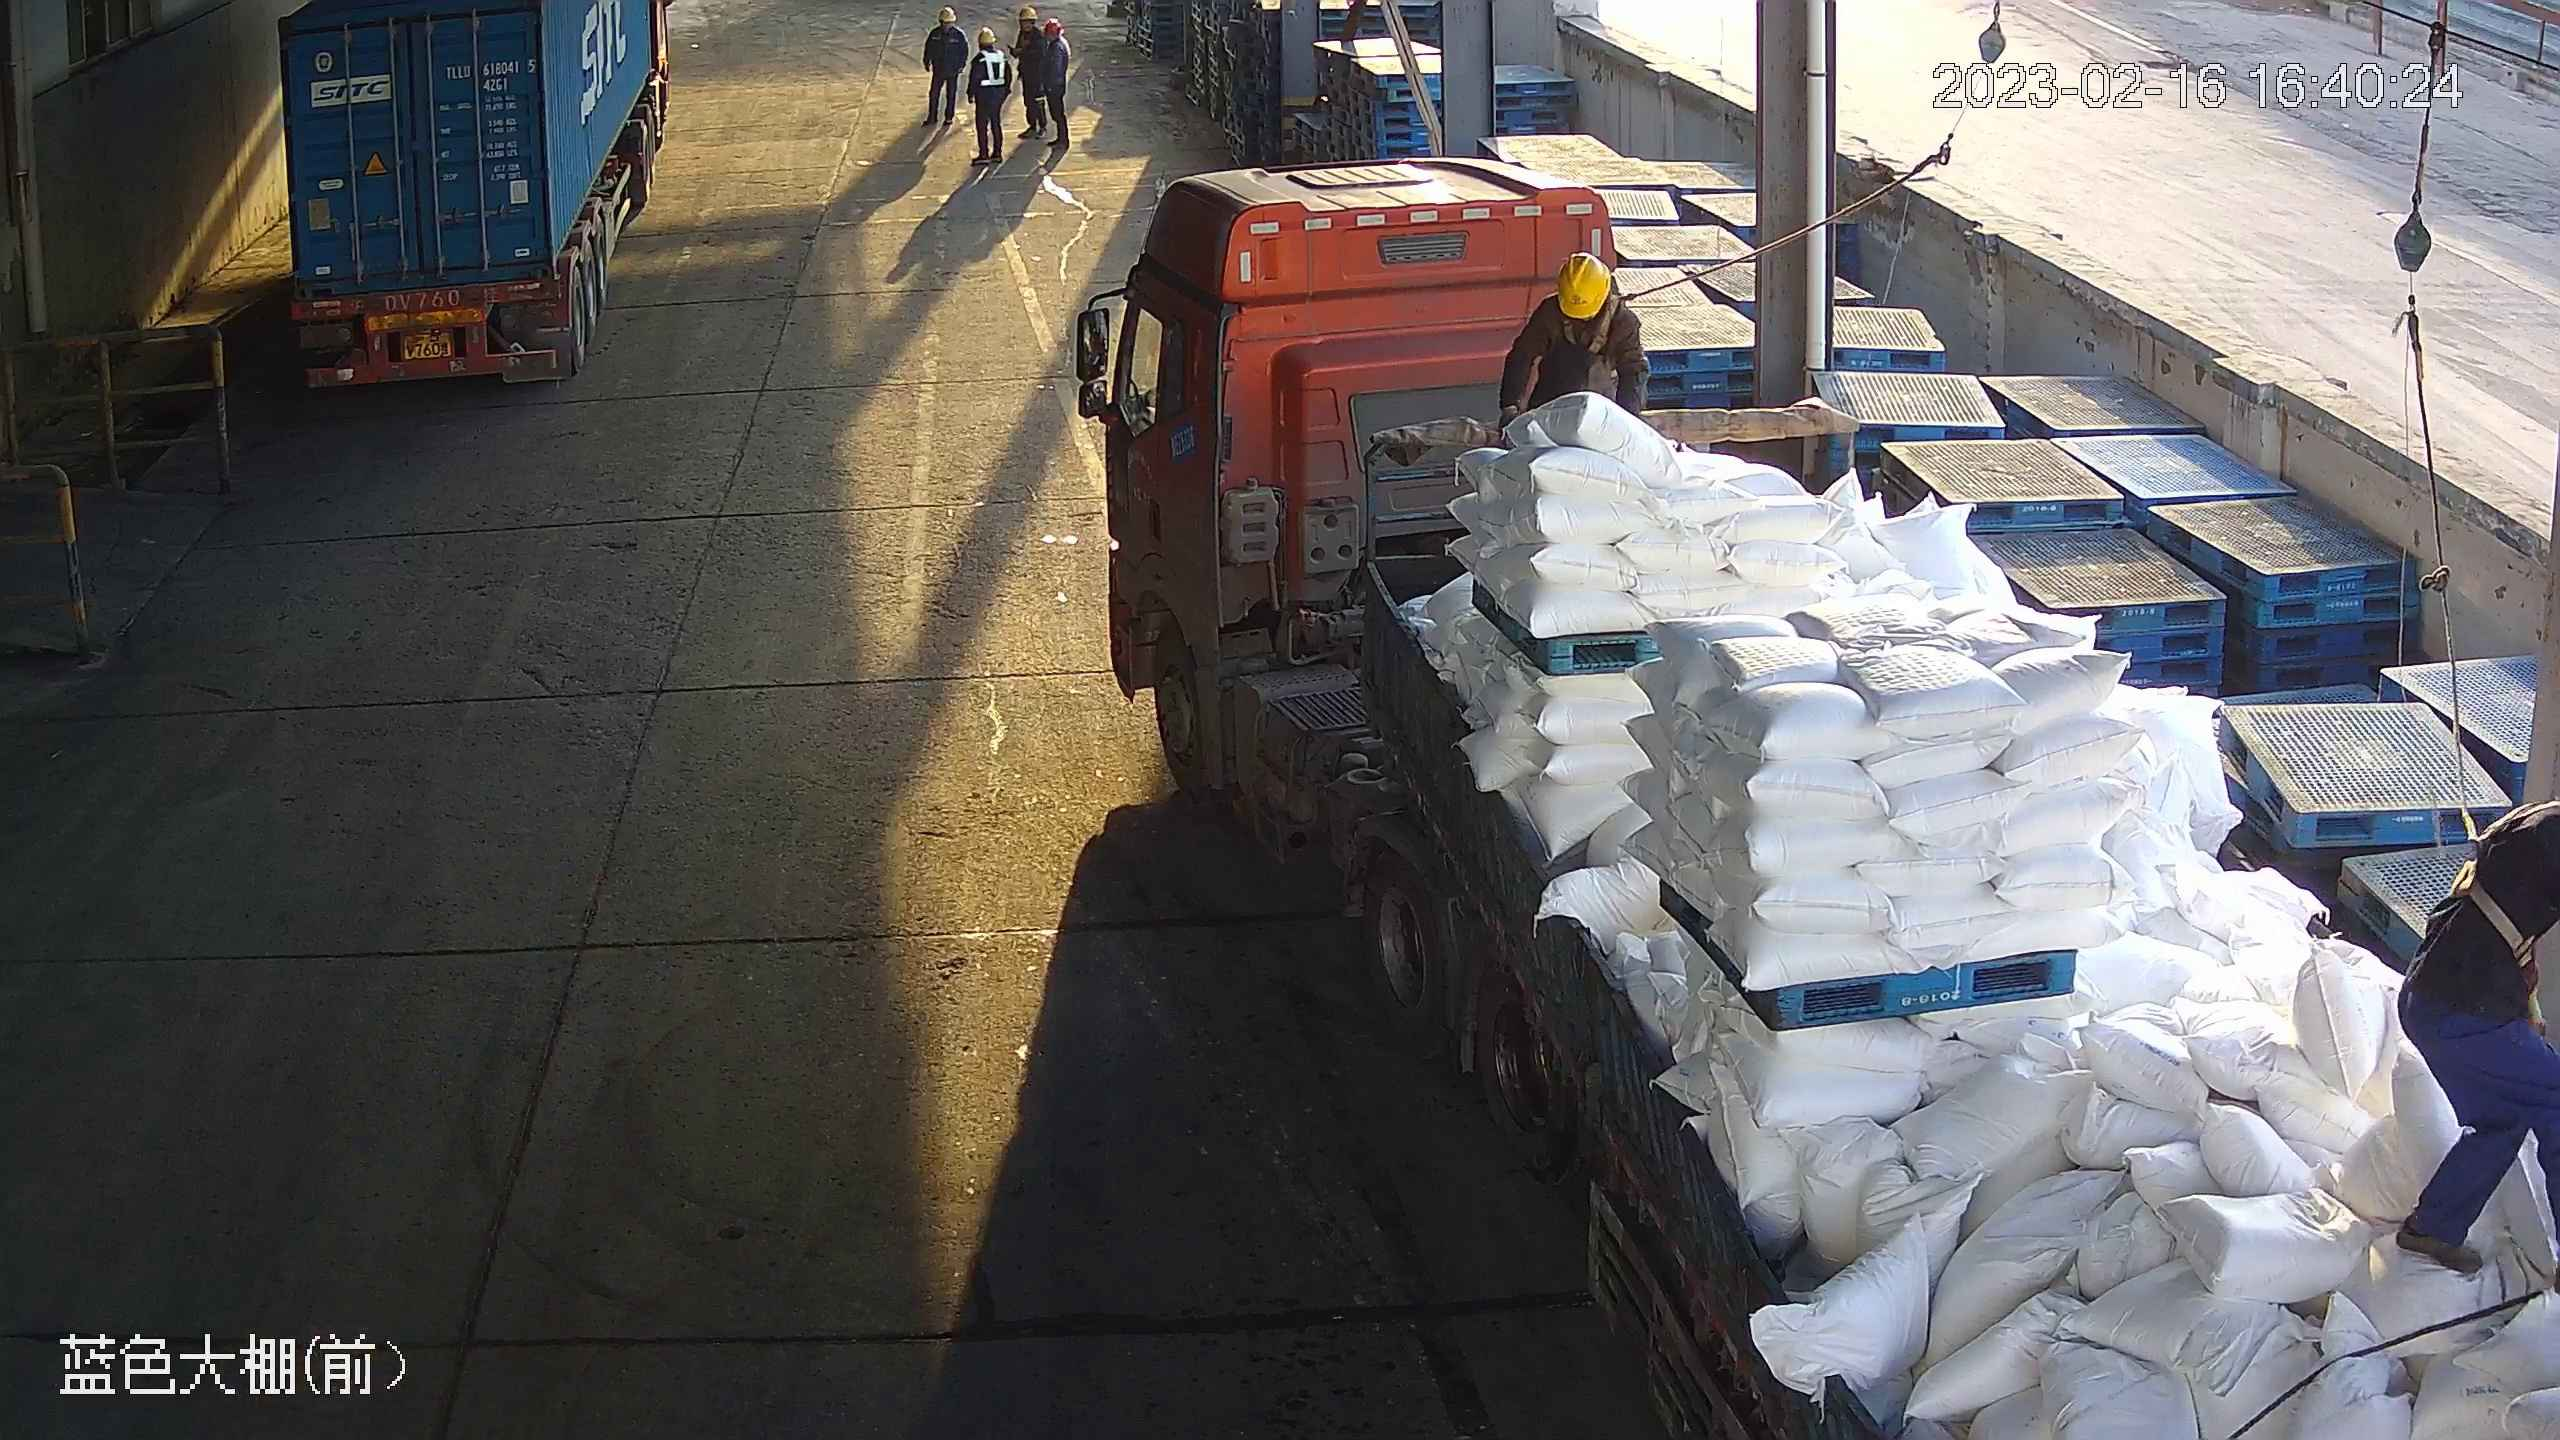belt: (2447, 810, 2543, 971), (1551, 293, 1645, 352)
head: (1533, 251, 1639, 332), (973, 25, 1010, 67), (927, 6, 969, 40), (1041, 17, 1072, 52), (1018, 6, 1041, 45)
helmet: (1555, 251, 1612, 321), (1044, 18, 1066, 35), (978, 26, 997, 44), (1019, 6, 1039, 22), (939, 5, 957, 23)
people: (1495, 250, 1652, 431), (964, 25, 1012, 166), (921, 5, 969, 129), (1009, 5, 1050, 140), (1041, 17, 1073, 149)
truck: (1075, 155, 2560, 1440), (273, 1, 668, 405)
